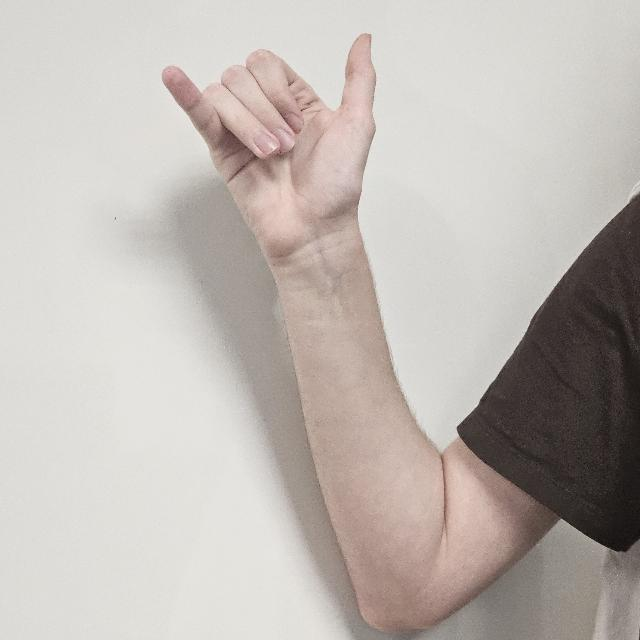Direita: (162, 30, 374, 246)
